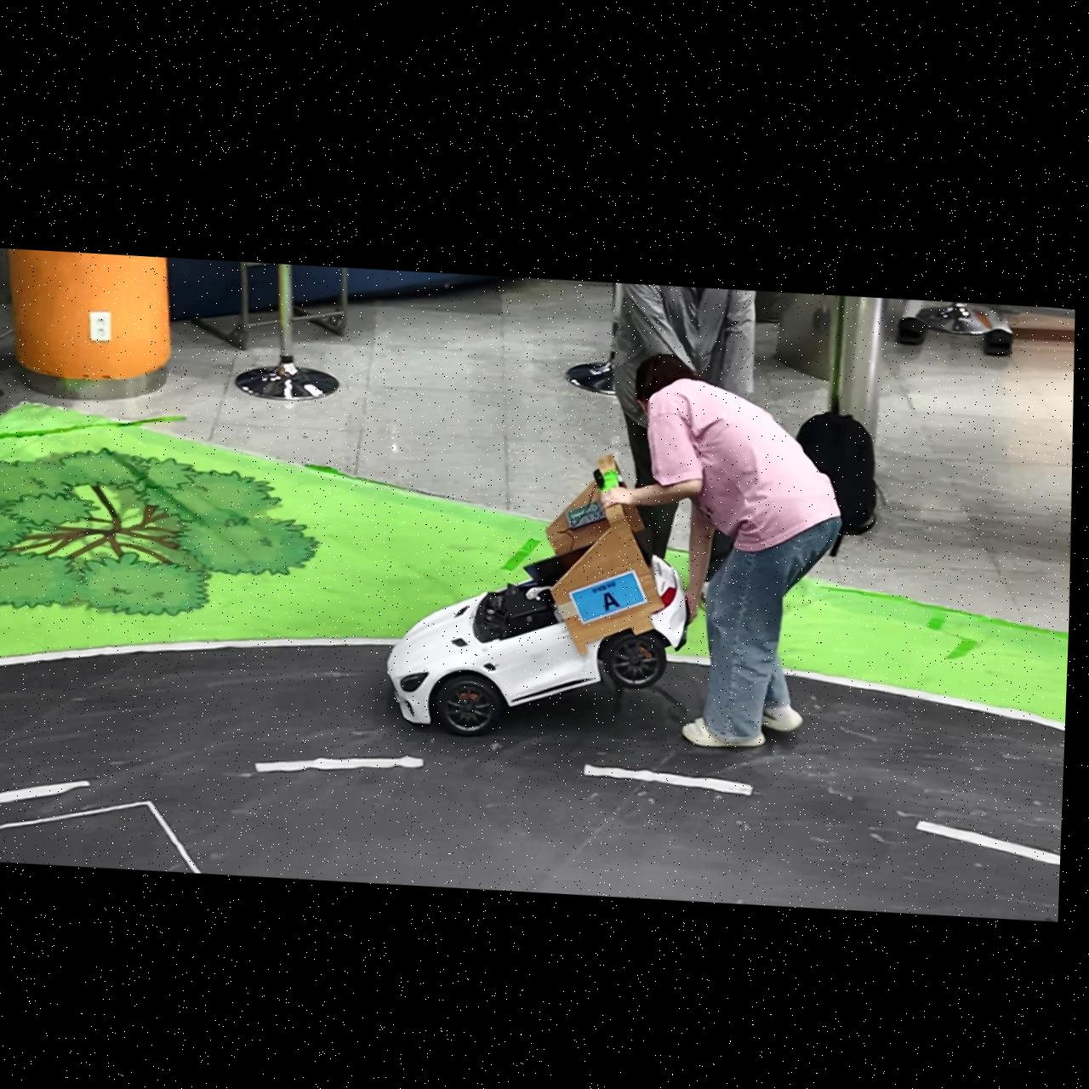broken_line: (916, 821, 1060, 865), (584, 765, 752, 795), (256, 756, 423, 772), (0, 780, 90, 803)
